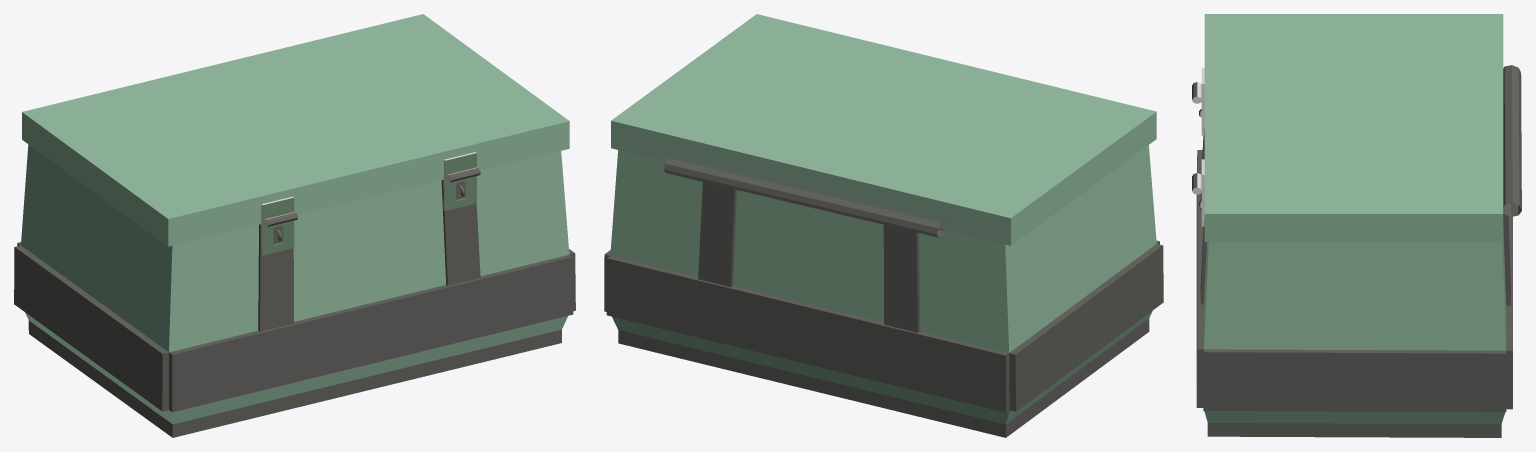
The model's file is пиздец.fbx.
3 views of the same model, side by side, from view 1: azimuth 30°, elevation 25°; view 2: azimuth 150°, elevation 25°; view 3: azimuth 270°, elevation 25° (orthographic). The views are drawn at different scales.
Visible parts, largest first — view 1: Плоскость.004, Cube, Cube.005, Cube.003, Cube.004, Плоскость.001, Плоскость.003; view 2: Плоскость.004, Cube, Cube.005, Cube.003, Cube.004, Цилиндр; view 3: Плоскость.004, Cube, Cube.005, Cube.003, Цилиндр, Cube.004.
Part boxes in pixels (<box>): Плоскость.004: <box>22,14,569,246</box>; Cube: <box>21,144,569,424</box>; Cube.005: <box>14,242,575,412</box>; Cube.003: <box>28,320,561,437</box>; Cube.004: <box>258,179,480,331</box>; Плоскость.001: <box>262,197,294,255</box>; Плоскость.003: <box>445,153,476,211</box>; Плоскость.004: <box>611,14,1156,245</box>; Cube: <box>610,145,1156,424</box>; Cube.005: <box>604,240,1163,412</box>; Cube.003: <box>618,318,1149,437</box>; Cube.004: <box>698,182,920,332</box>; Цилиндр: <box>663,157,945,237</box>; Плоскость.004: <box>1204,14,1503,241</box>; Cube: <box>1204,228,1506,424</box>; Cube.005: <box>1196,150,1512,412</box>; Cube.003: <box>1207,423,1501,437</box>; Цилиндр: <box>1503,65,1521,216</box>; Cube.004: <box>1200,128,1510,305</box>.
Bounding box in the file's own units: 326 × 168 × 221.
